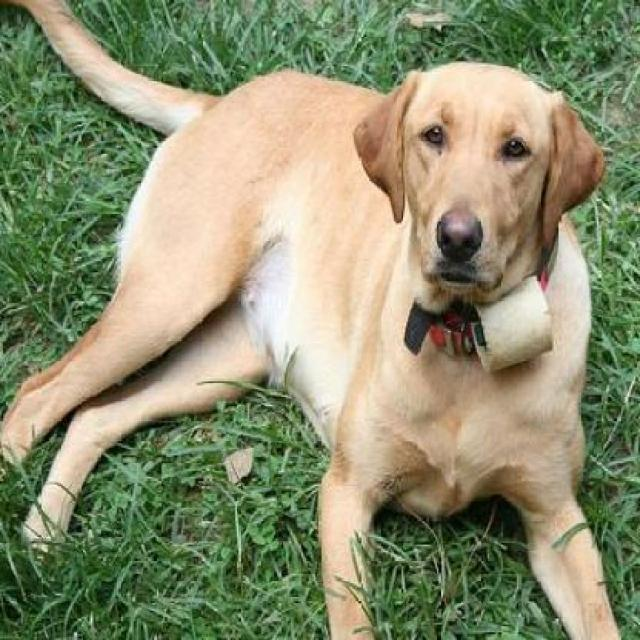Dog: (3, 1, 614, 638)
